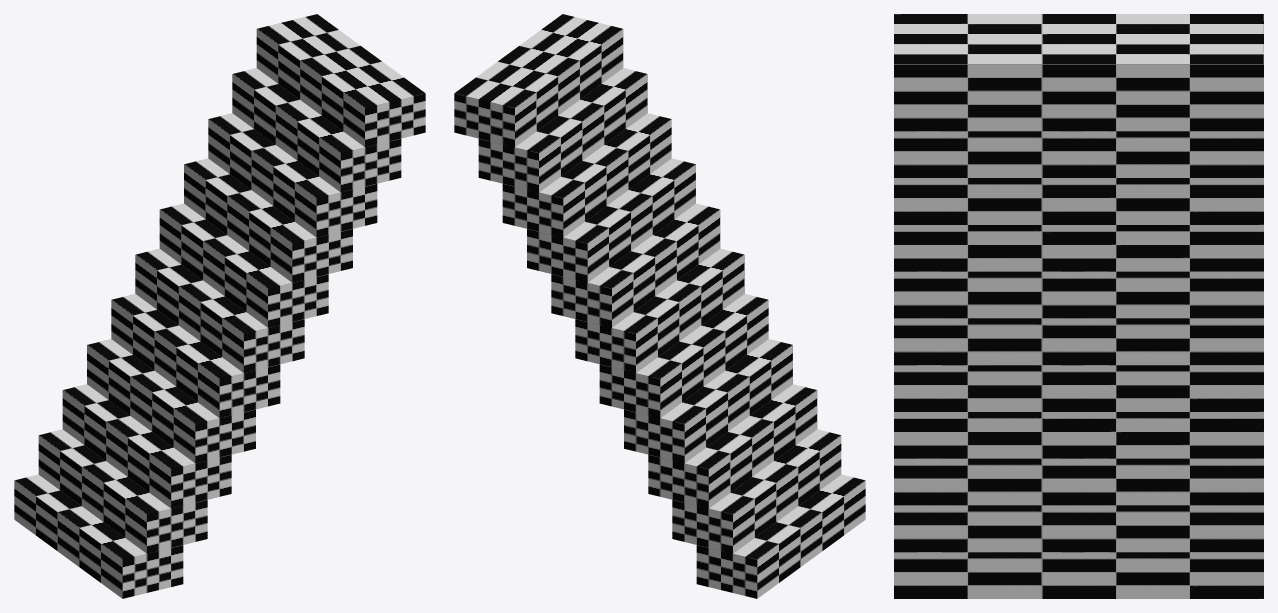
The model's file is stairs.glb.
The picture shows the model from 3 angles, left to right: view 1: azimuth 30°, elevation 25°; view 2: azimuth 150°, elevation 25°; view 3: azimuth 270°, elevation 25°; orthographic projection. The views are drawn at different scales.
Visible parts, largest first — view 1: Cube; view 2: Cube; view 3: Cube.
Part boxes in pixels (x1=…): Cube: x1=14, y1=14, x2=425, y2=598; Cube: x1=454, y1=14, x2=865, y2=598; Cube: x1=894, y1=14, x2=1263, y2=598.
Size of the model in its own units: 3.23 by 4.39 by 2.
1 material, 1 textured.
